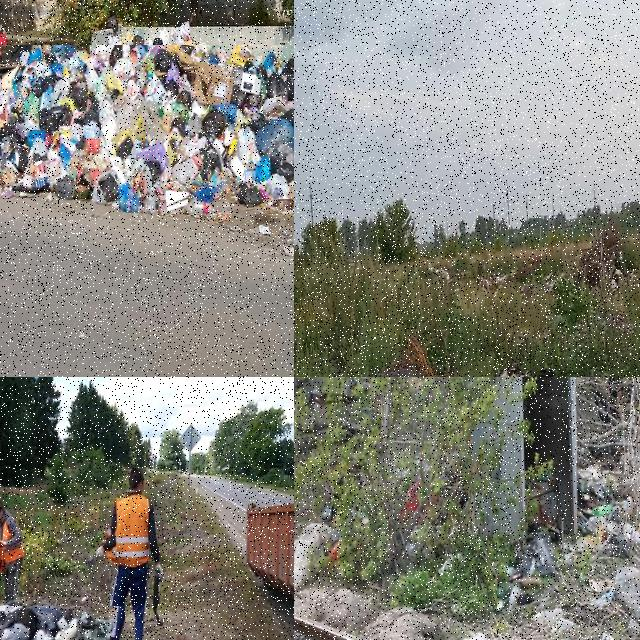lixeira: (0, 46, 293, 217), (498, 533, 557, 614), (575, 463, 629, 538), (294, 522, 343, 593)
